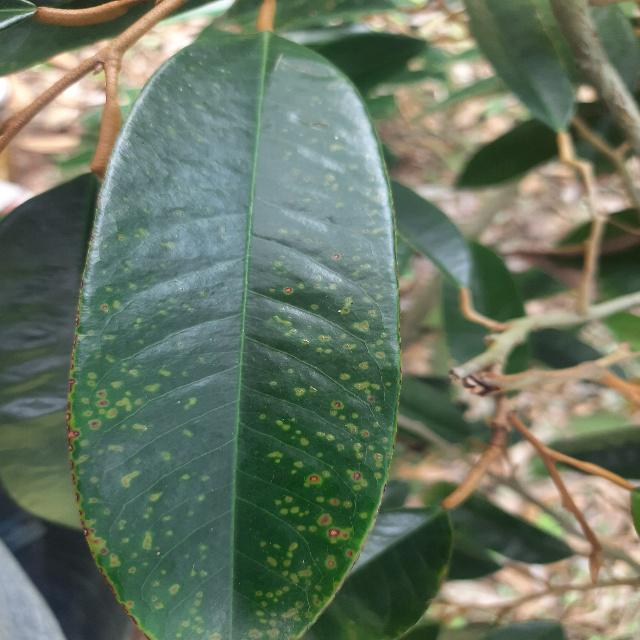Leaf Spot: (63, 15, 410, 639)
